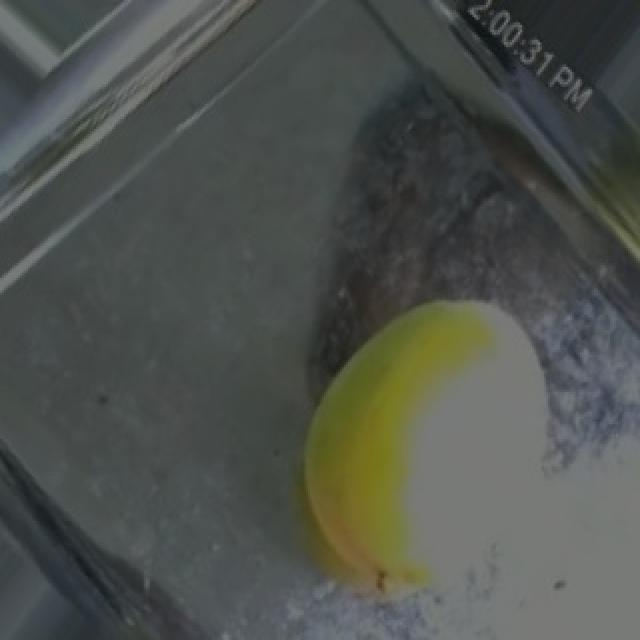fruit: (248, 243, 636, 640)
